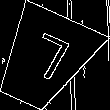L_SW: (16, 30, 73, 89)
